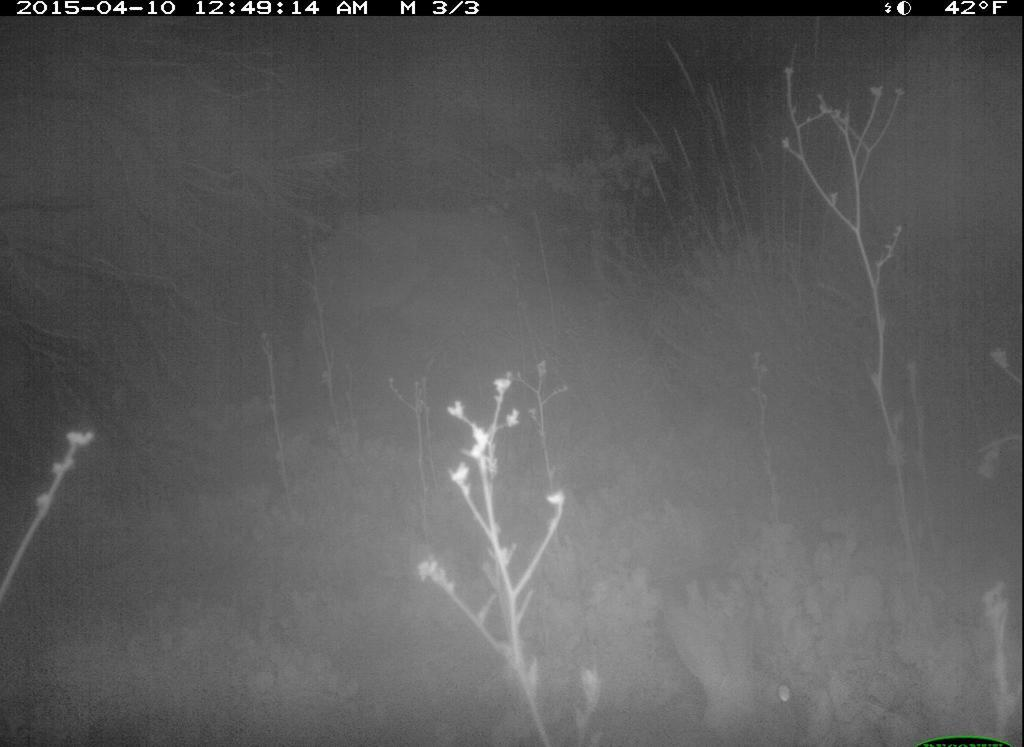rabbit: (655, 594, 826, 747)
